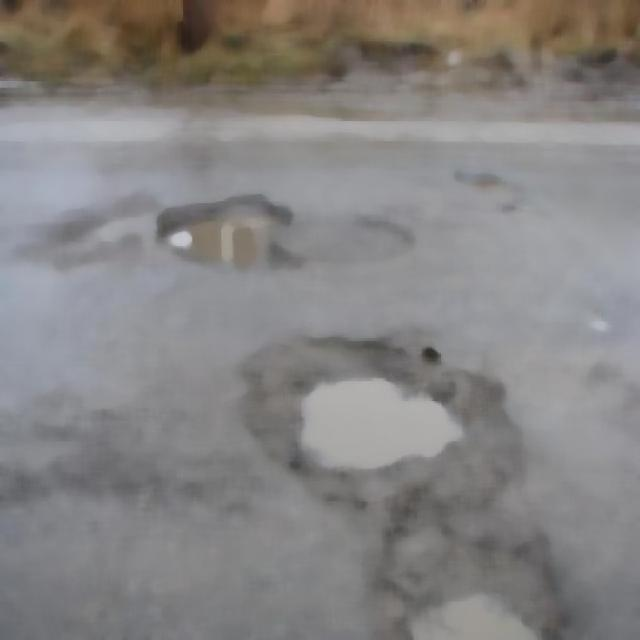Pothole: (242, 352, 509, 422), (155, 182, 307, 298), (419, 578, 543, 638)
